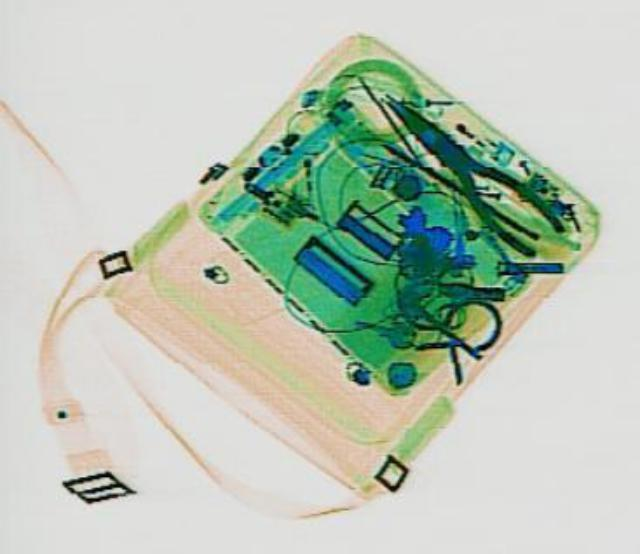Pliers: (357, 75, 575, 260)
